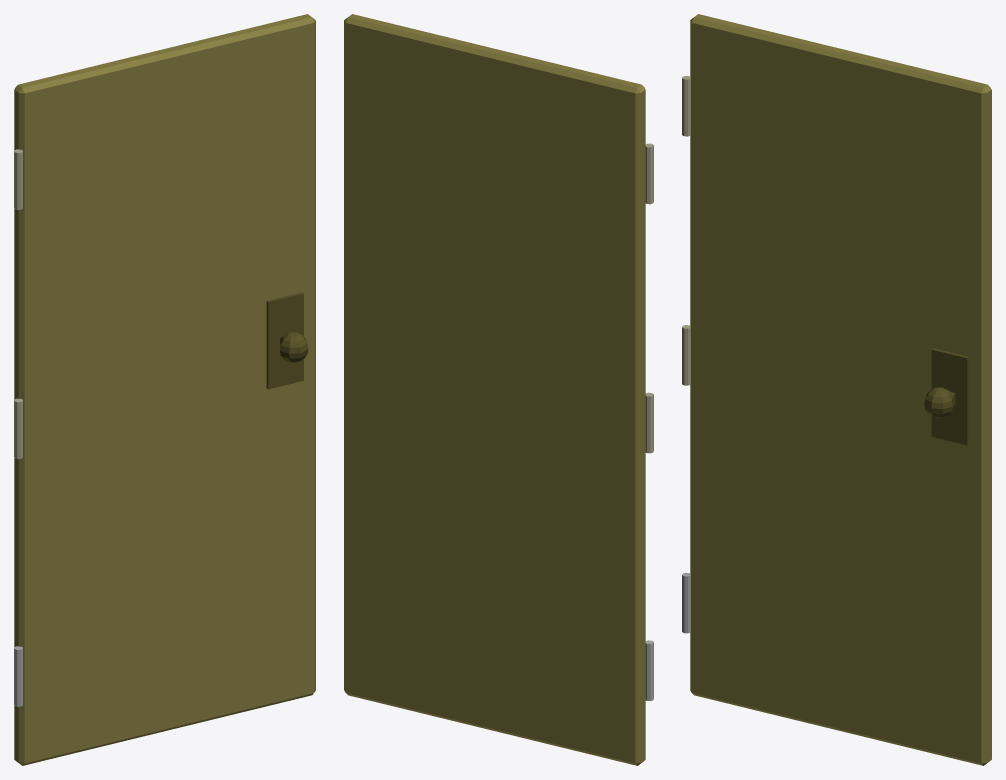
File: Door.fbx
The picture shows the model from 3 angles, left to right: view 1: azimuth 30°, elevation 25°; view 2: azimuth 150°, elevation 25°; view 3: azimuth 330°, elevation 25°; orthographic projection.
Parts seen in each view (by area): view 1: Door, pCylinder3, pCylinder1, pCylinder2; view 2: Door, pCylinder1, pCylinder2, pCylinder3; view 3: Door, pCylinder3, pCylinder2, pCylinder1.
Boxes of the visible parts, left/top/right/bottom form: Door: left=14, top=14, right=315, bottom=765; pCylinder3: left=14, top=646, right=22, bottom=706; pCylinder1: left=14, top=149, right=22, bottom=209; pCylinder2: left=14, top=398, right=22, bottom=459; Door: left=344, top=14, right=645, bottom=765; pCylinder1: left=645, top=143, right=653, bottom=204; pCylinder2: left=645, top=392, right=653, bottom=453; pCylinder3: left=645, top=640, right=653, bottom=701; Door: left=690, top=14, right=991, bottom=765; pCylinder3: left=682, top=572, right=690, bottom=633; pCylinder2: left=682, top=325, right=690, bottom=385; pCylinder1: left=682, top=76, right=690, bottom=136.
Size of the model in its own units: 11.14 by 23.82 by 1.74.
